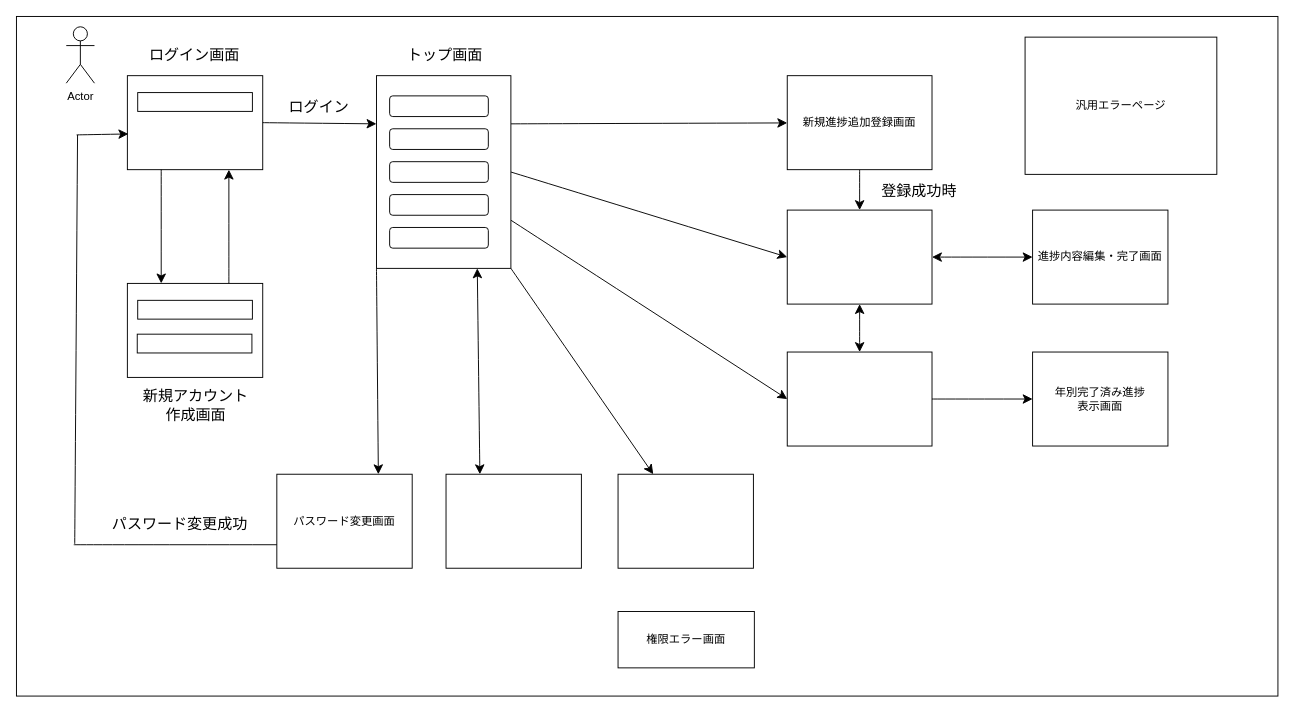
The diagram is 1294 pixels wide and 713 high, and some of its shapes have lost their labels. Each missing label, with the centre of its shape:
ユーザー管理画面: the point at 685,520
名前変更画面: the point at 513,520
年別完了済み進捗項目 表示画面: the point at 859,398
進行中・当年完了済み進捗表示画面: the point at 859,256
